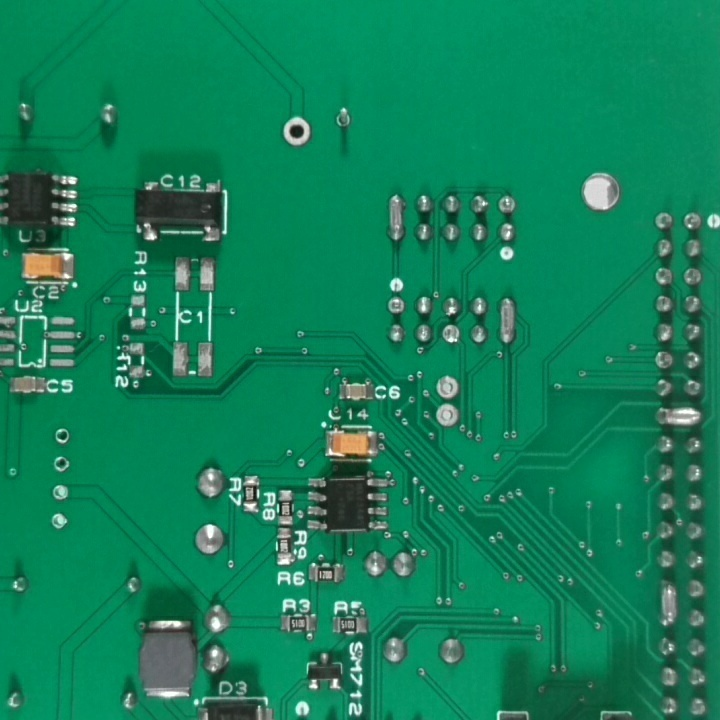F: (279, 112, 317, 149), (434, 373, 460, 401), (433, 404, 462, 429), (385, 294, 410, 318), (681, 266, 707, 289), (496, 192, 518, 218), (440, 322, 464, 345), (332, 107, 354, 132), (681, 210, 703, 234), (47, 481, 70, 503), (50, 454, 73, 475), (653, 350, 674, 372), (48, 510, 68, 532), (53, 426, 73, 446)
P: (384, 189, 411, 246), (497, 292, 522, 349), (653, 404, 707, 429), (659, 579, 681, 631)
